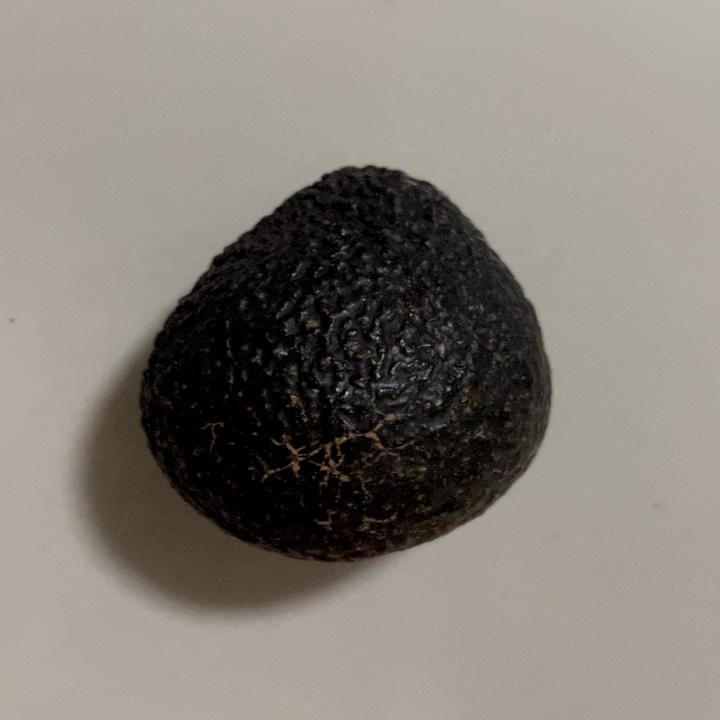Level2: (129, 152, 565, 570)
